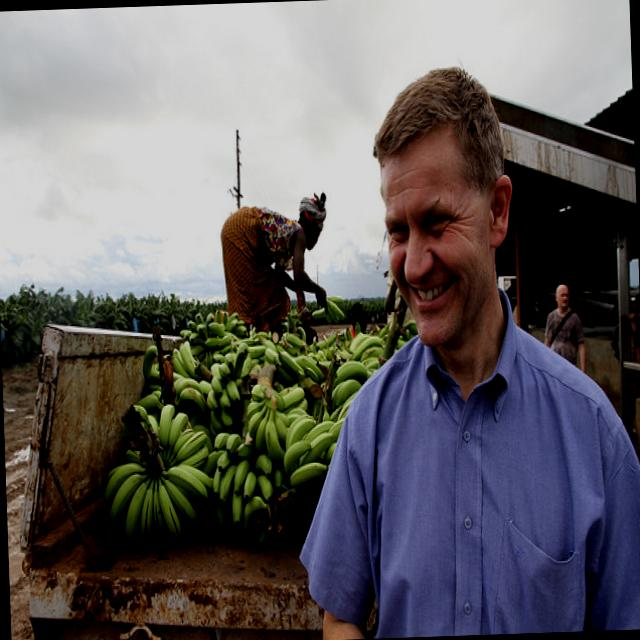Vehicle: (10, 309, 326, 640)
